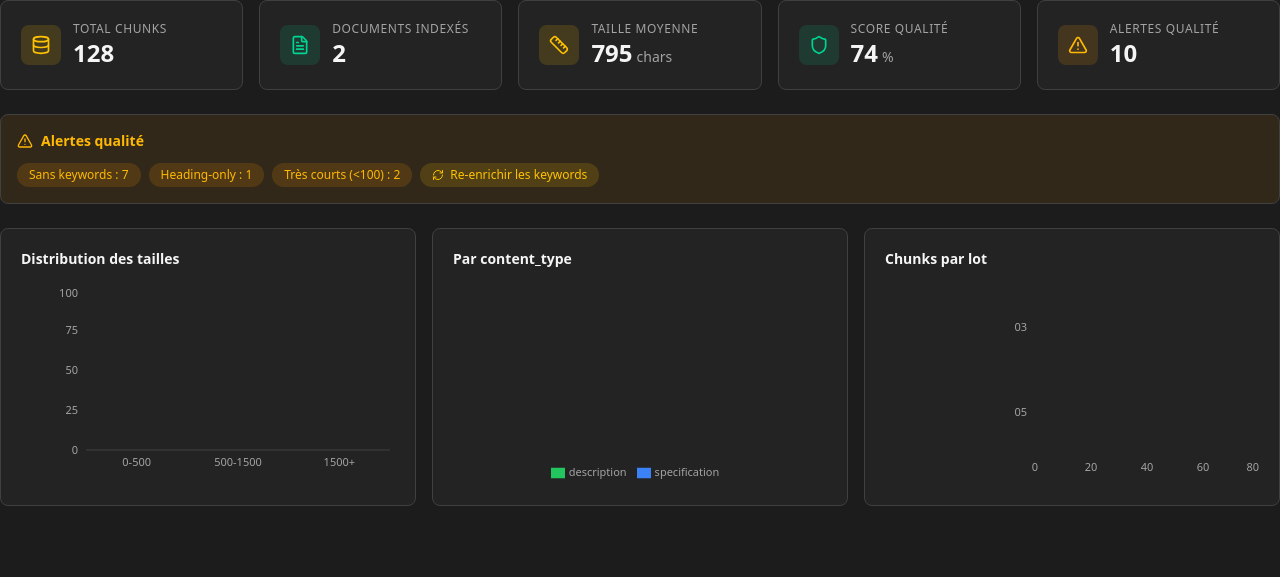
Test: StatsOverview — a failed load says so instead of rendering nothing › does not show the enrichment report when the mutation failed
Click the button "Re-enrichir les keywords": click(510, 175) [420, 163, 599, 187]
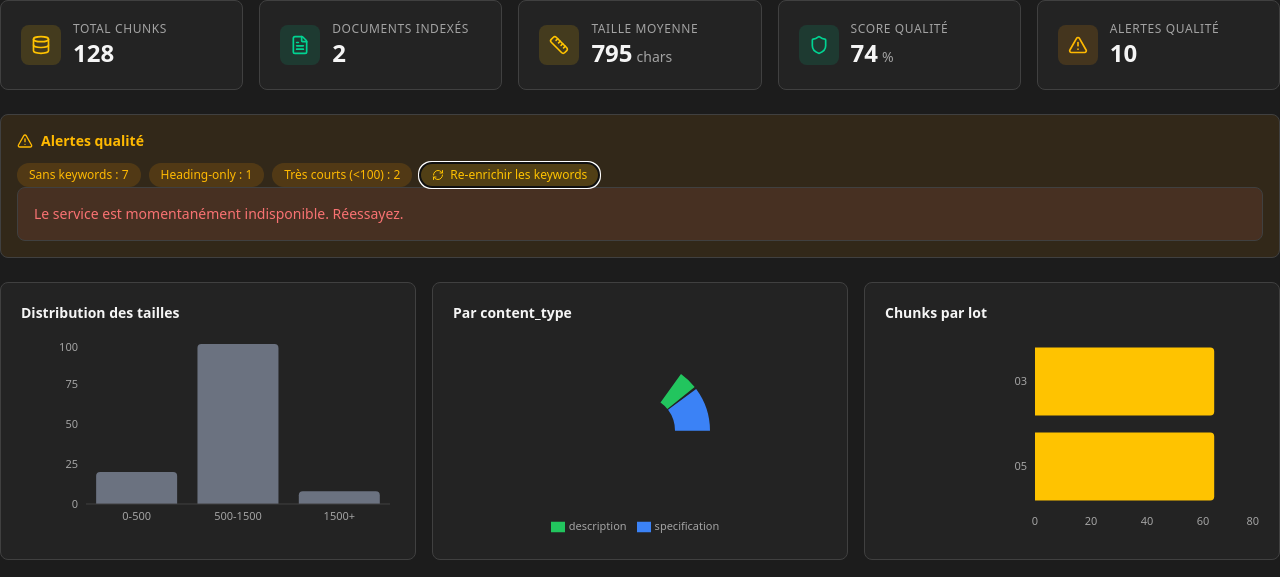
Expected: the message "Le service est momentanément indisponible. Réessayez." is shown, [17, 187, 1263, 241]
